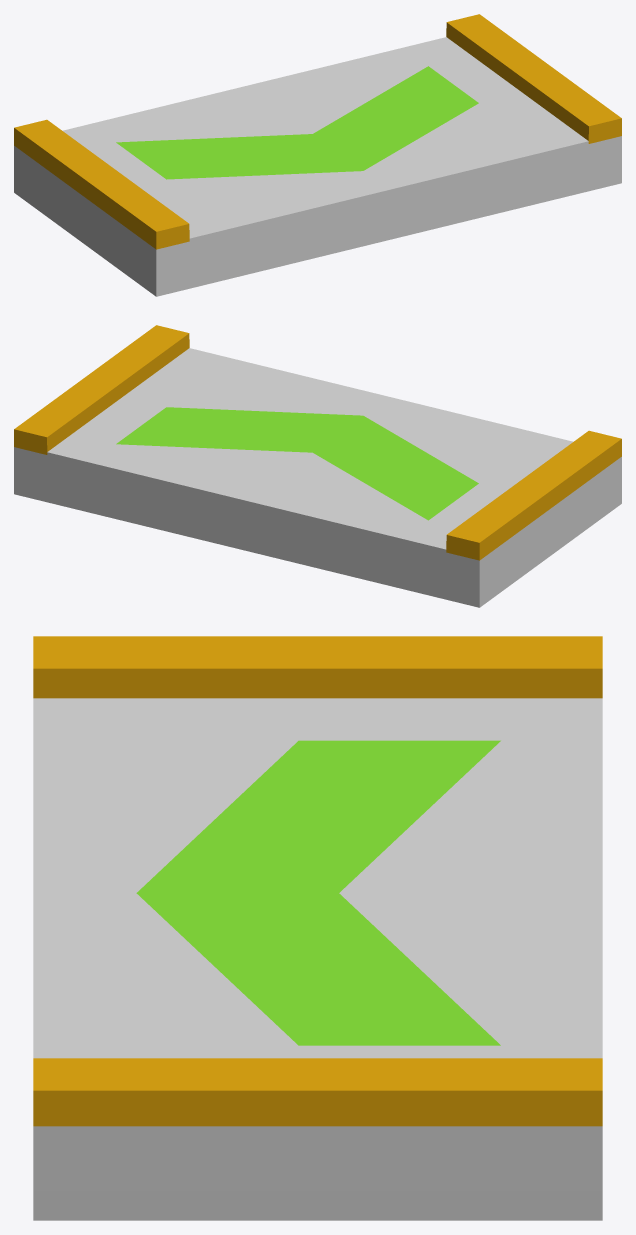
File: FINAL GROUND.fbx
The picture shows the model from 3 angles, top to bottom: view 1: azimuth 30°, elevation 25°; view 2: azimuth 150°, elevation 25°; view 3: azimuth 270°, elevation 25°; orthographic projection. The views are drawn at different scales.
Visible parts, largest first — view 1: ground arrow, ground final; view 2: ground arrow, ground final; view 3: ground arrow, ground final.
Boxes of the visible parts, x1,y1,x2,y2 form: ground arrow: (62, 37, 588, 241); ground final: (14, 14, 621, 296); ground arrow: (47, 348, 573, 552); ground final: (14, 325, 621, 607); ground arrow: (33, 698, 602, 1058); ground final: (33, 636, 602, 1220).
Bounding box in the file's own units: 300 × 40 × 159.
